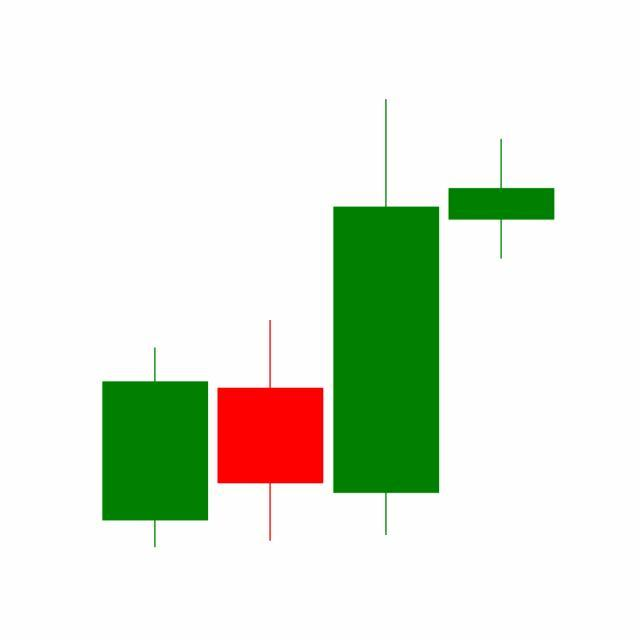Three Outside Up-Down: (211, 99, 555, 546)
